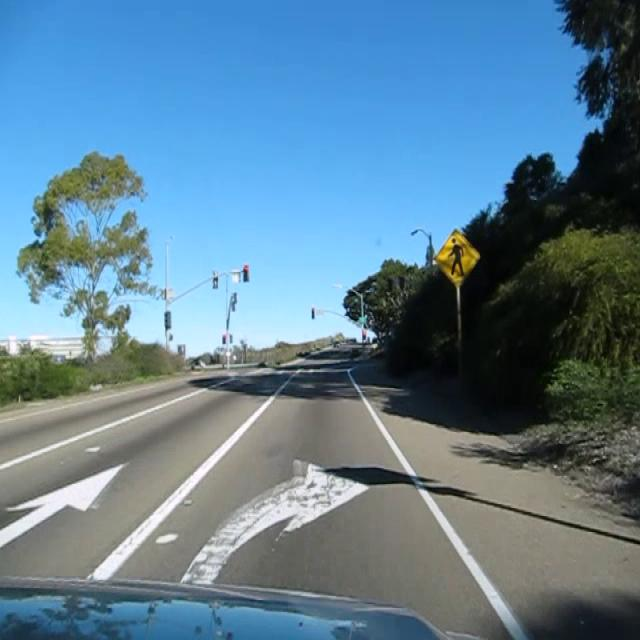pedestrianCrossing: (433, 227, 480, 288)
